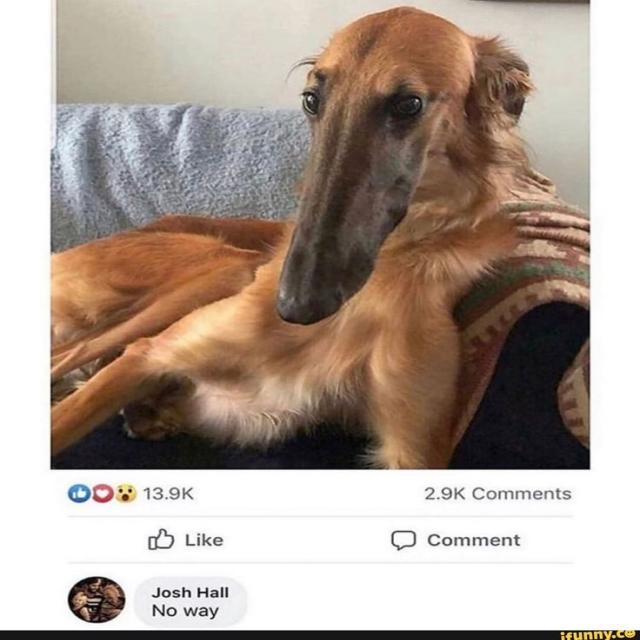dog: (211, 3, 567, 360)
